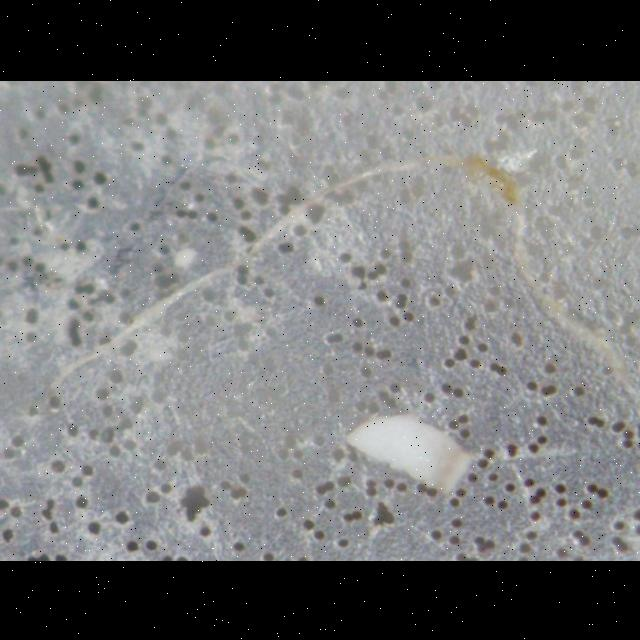Fibre: (35, 150, 640, 400)
